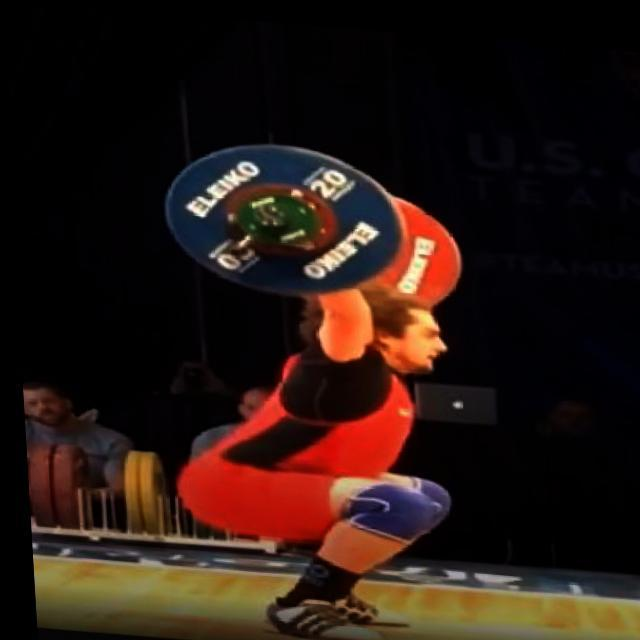barbell: (154, 127, 410, 303)
